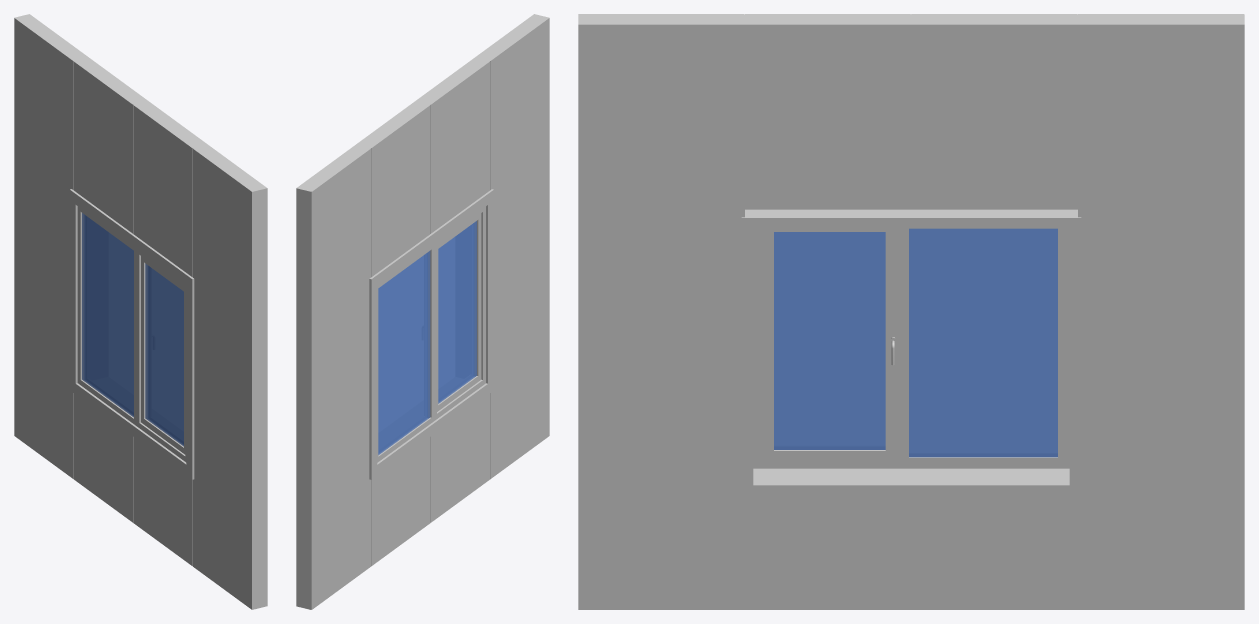
The model's file is window_2x1_8.fbx.
The picture shows the model from 3 angles, left to right: view 1: azimuth 30°, elevation 25°; view 2: azimuth 150°, elevation 25°; view 3: azimuth 270°, elevation 25°; orthographic projection. The views are drawn at different scales.
Parts seen in each view (by area): view 1: Group9, Group1, Group7, Group8, Group11, Group4, Group2, Group3, Group5, Group10; view 2: Group1, Group9, Group7, Group8, Group11, Group4, Group2, Group3, Group5, Group10; view 3: Group1, Group9, Group8, Group7, Group10, Group2, Group4, Group3, Group5.
Part boxes in pixels (x1,y1,x2,y2): Group9: (193,144,267,609); Group1: (14,14,88,479); Group7: (82,213,183,446); Group8: (85,216,183,444); Group11: (69,189,194,479); Group4: (133,101,207,277); Group2: (74,57,147,233); Group3: (133,437,192,566); Group5: (74,393,133,522); Group10: (82,213,183,445); Group1: (296,145,371,609); Group9: (475,14,549,478); Group7: (378,221,476,455); Group8: (379,223,473,452); Group11: (369,189,493,479); Group4: (415,57,490,233); Group2: (356,101,430,276); Group3: (430,393,490,522); Group5: (371,437,430,565); Group10: (379,221,476,454); Group1: (1078,14,1244,609); Group9: (578,14,744,609); Group8: (774,228,1057,457); Group7: (774,229,1057,456); Group10: (741,209,1081,495); Group2: (911,14,1077,209); Group4: (745,14,911,209); Group3: (745,496,911,609); Group5: (911,496,1077,609).
Size of the model in its own units: 330 by 3877 by 4000.
